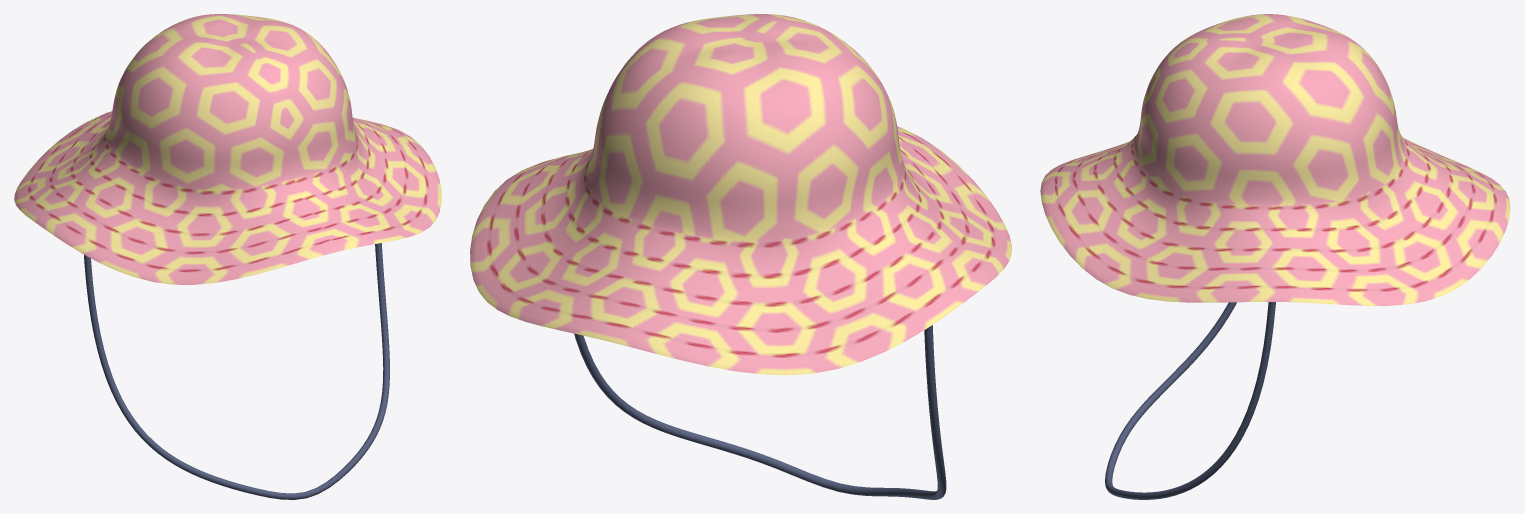
The model's file is SM_bob.fbx.
3 renders of one model, left to right at view 1: azimuth 30°, elevation 25°; view 2: azimuth 150°, elevation 25°; view 3: azimuth 270°, elevation 25°, orthographic. The views are drawn at different scales.
Parts seen in each view (by area): view 1: SM_Bob; view 2: SM_Bob; view 3: SM_Bob.
Part boxes in pixels (x1,y1,x2,y2): SM_Bob: (14, 14, 441, 499); SM_Bob: (470, 14, 1011, 499); SM_Bob: (1040, 14, 1510, 499).
Bounding box in the file's own units: 89.37 × 94.64 × 90.5.
